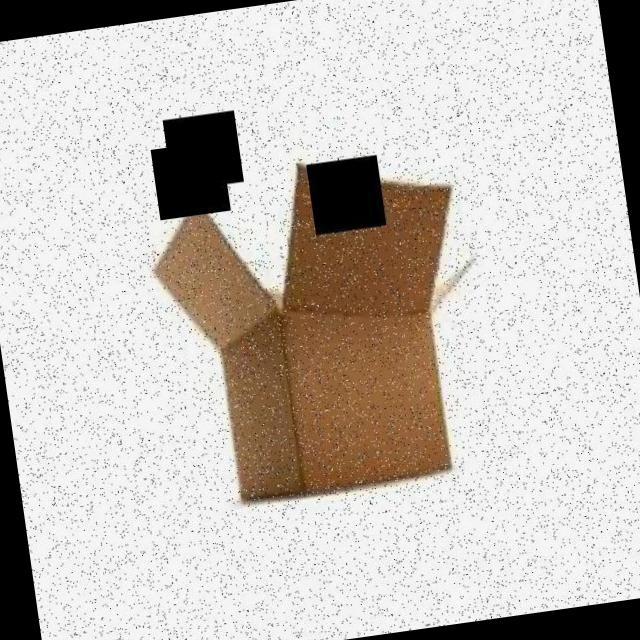box: (134, 138, 508, 522)
